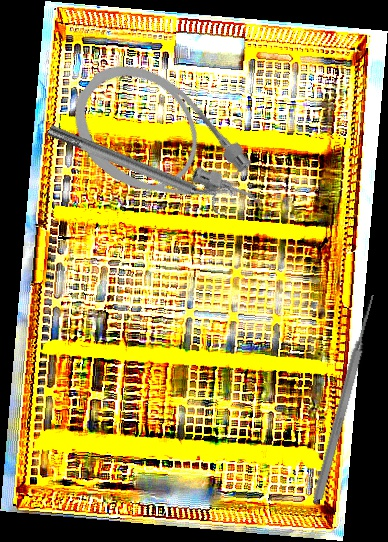Cannula: (52, 42, 283, 259)
Fixation Ring: (43, 114, 235, 219)
Pusher: (311, 293, 380, 501)
